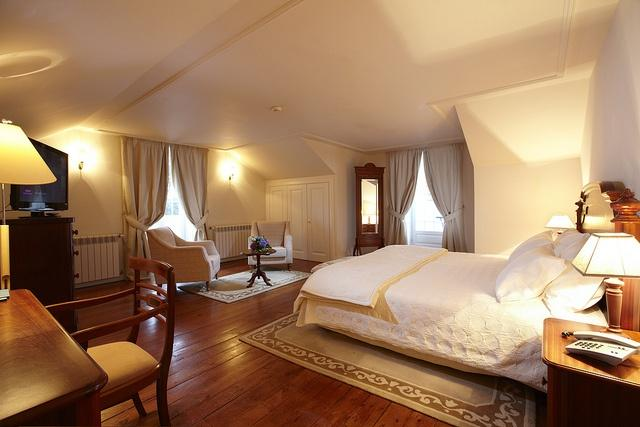AIO PC-Monitor-TV: (8, 133, 68, 212)
Kursi: (44, 256, 176, 426)
Meja: (0, 286, 108, 426)
